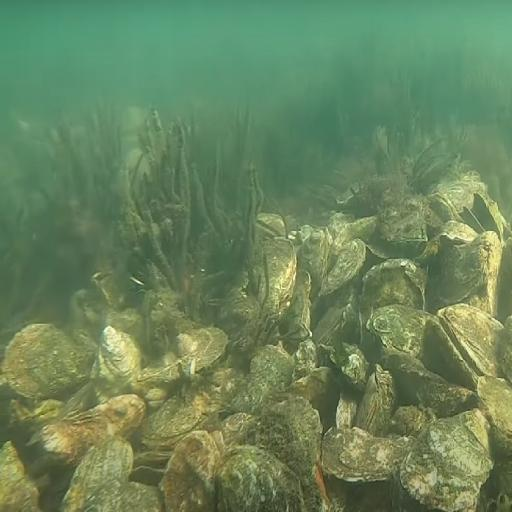Oyster-Closed: (406, 409, 495, 511), (221, 396, 321, 480), (44, 395, 149, 466), (363, 265, 427, 369), (8, 325, 101, 395), (216, 448, 311, 512), (56, 438, 136, 512), (389, 357, 482, 420), (324, 425, 411, 484), (439, 303, 508, 373), (166, 433, 223, 512), (430, 238, 493, 307), (230, 344, 292, 414), (423, 317, 476, 390), (139, 389, 203, 447), (94, 332, 144, 406), (254, 239, 296, 321), (370, 306, 433, 358), (322, 238, 369, 299), (361, 362, 396, 441), (381, 198, 428, 256), (298, 228, 332, 305), (285, 263, 313, 350), (181, 323, 227, 375), (334, 213, 382, 261), (94, 480, 165, 512), (476, 376, 512, 438), (429, 179, 487, 213)
Oyster-Open: (462, 193, 507, 244), (132, 449, 172, 484), (426, 194, 461, 227)
